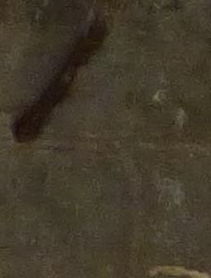Exposed reinforcement: (10, 19, 106, 145)
